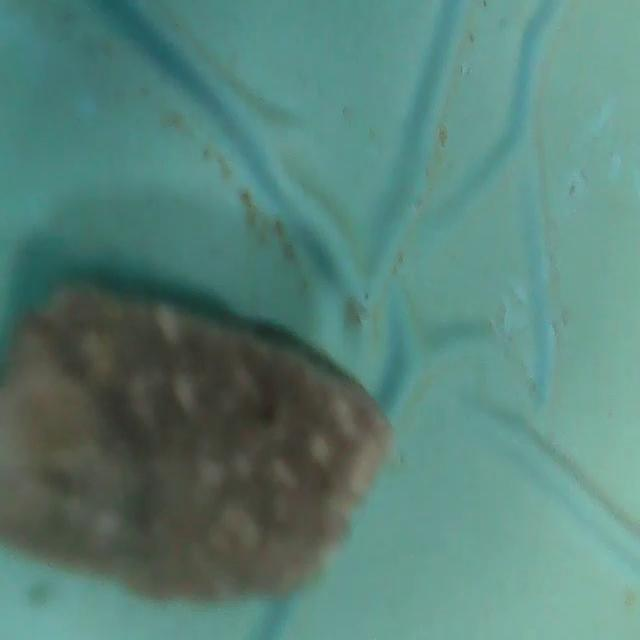rock: (0, 265, 399, 621)
